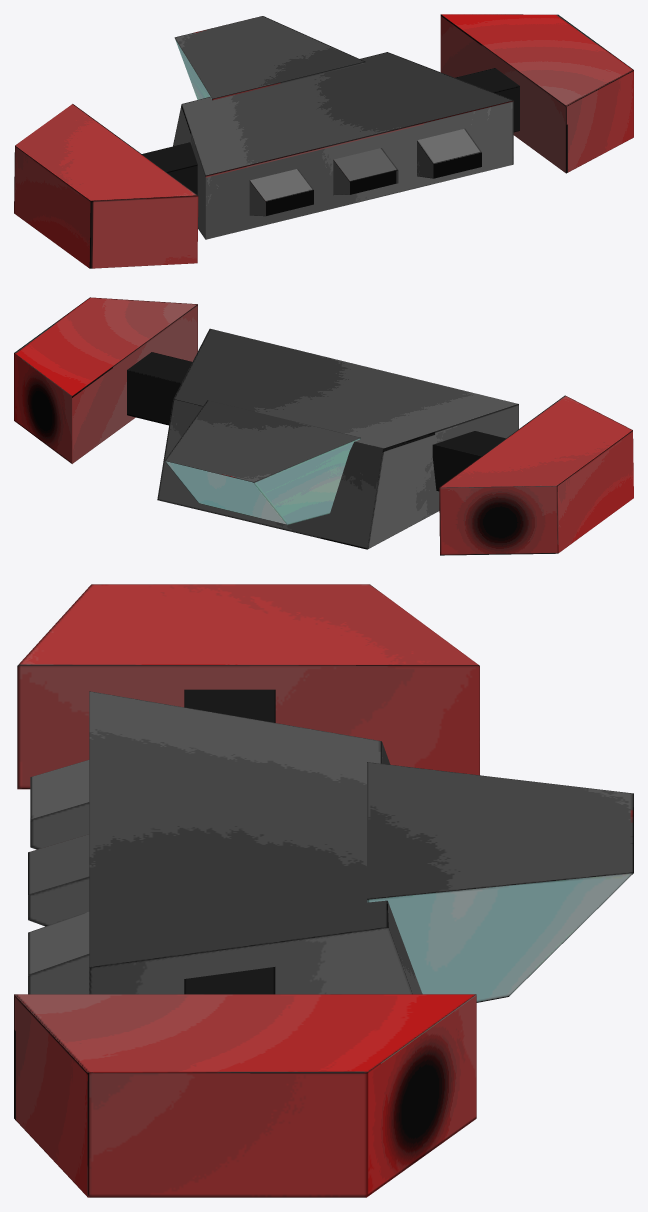
The picture shows the model from 3 angles, top to bottom: view 1: azimuth 30°, elevation 25°; view 2: azimuth 150°, elevation 25°; view 3: azimuth 270°, elevation 25°; orthographic projection. The views are drawn at different scales.
Parts seen in each view (by area): view 1: Fast_Sub; view 2: Fast_Sub; view 3: Fast_Sub.
Boxes of the visible parts, x1,y1,x2,y2 form: Fast_Sub: [14, 14, 633, 268]; Fast_Sub: [14, 297, 633, 555]; Fast_Sub: [14, 584, 633, 1197].
Bounding box in the file's own units: 908 × 145 × 487.
Materials: 1 (1 with a texture image).
